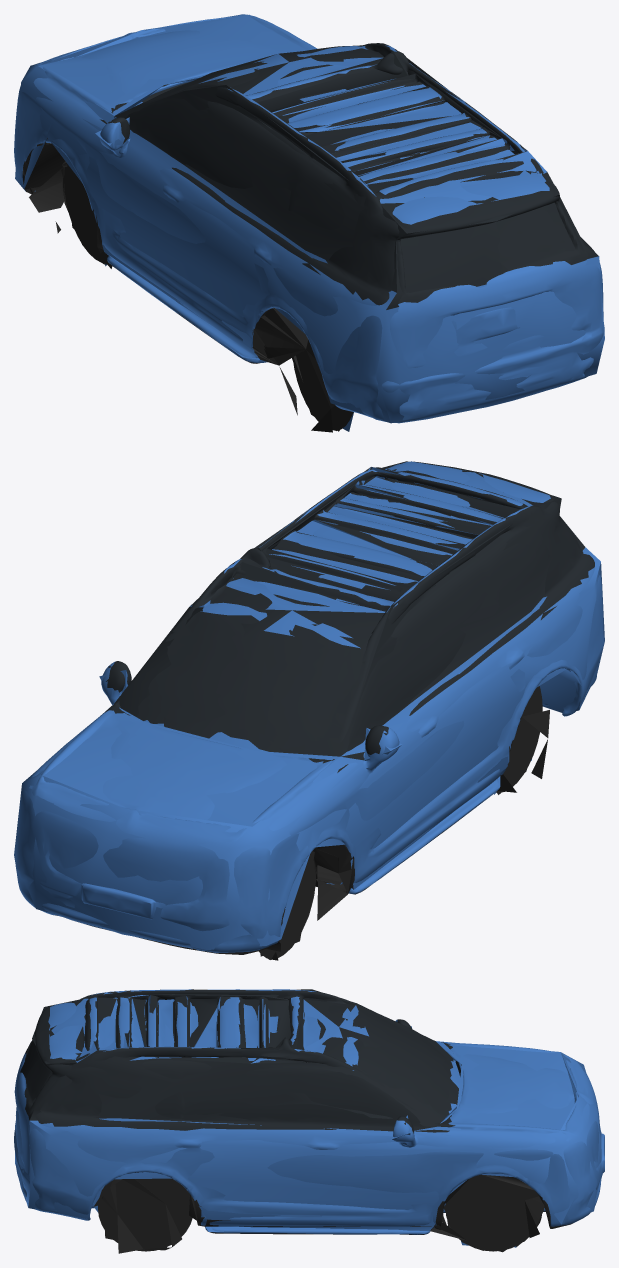
File: hyundai-palisade.glb
3 renders of one model, top to bottom at view 1: azimuth 30°, elevation 25°; view 2: azimuth 150°, elevation 25°; view 3: azimuth 270°, elevation 25°, orthographic. The views are drawn at different scales.
Visible parts, largest first — view 1: body, far; view 2: body, far; view 3: body, far.
Part boxes in pixels (x1=…): body: x1=14, y1=14, x2=604, y2=432; far: x1=15, y1=14, x2=604, y2=431; body: x1=15, y1=461, x2=604, y2=960; far: x1=14, y1=461, x2=604, y2=959; body: x1=14, y1=989, x2=604, y2=1253; far: x1=15, y1=989, x2=602, y2=1253.
Size of the model in its own units: 2.21 by 1.96 by 5.07.
